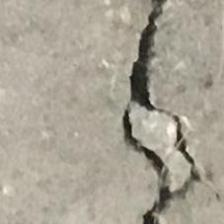Crack: (88, 0, 204, 224)
